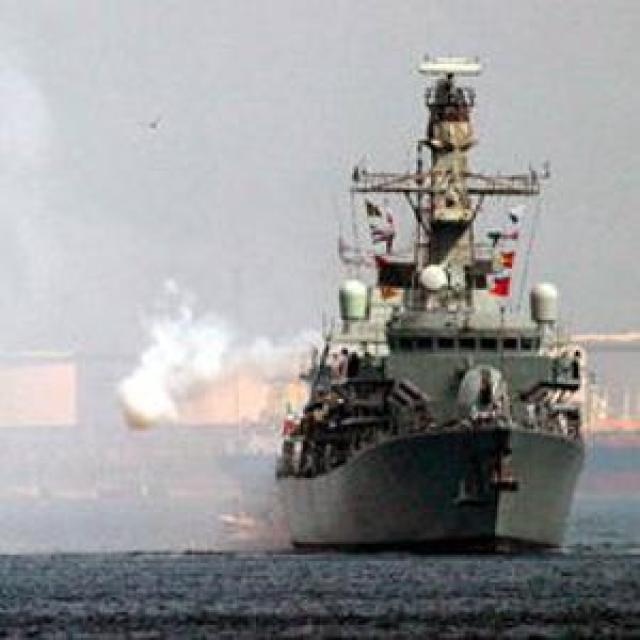navalvessels: (264, 47, 606, 553)
